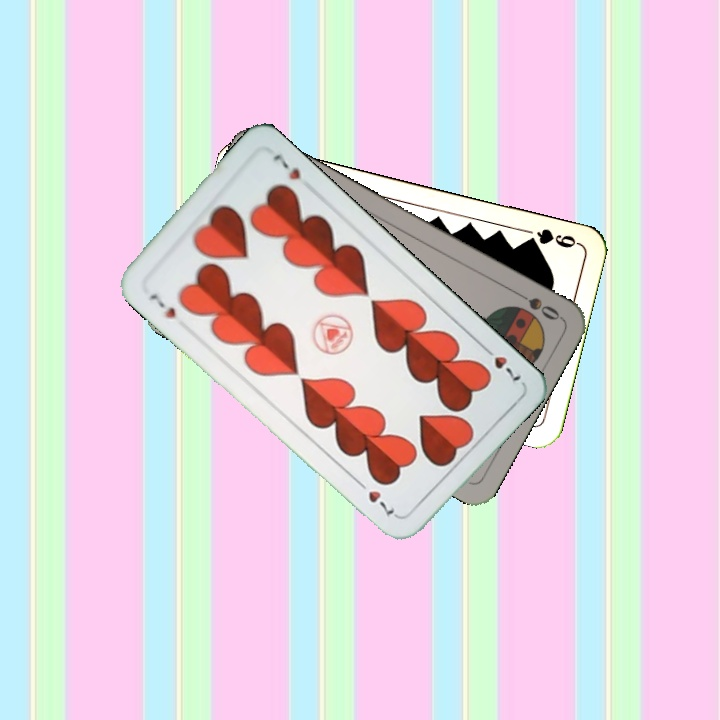G9: (521, 224, 582, 251)
H7: (477, 340, 524, 384), (146, 288, 179, 321)
SO: (509, 286, 563, 323)
